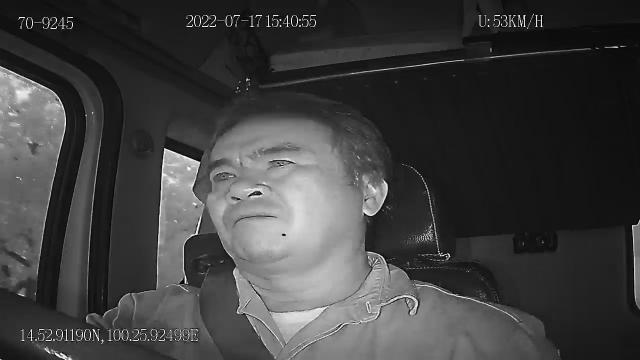SafeDriving: (260, 149, 304, 175), (205, 162, 243, 188)
Seatbelt: (196, 260, 278, 360)
